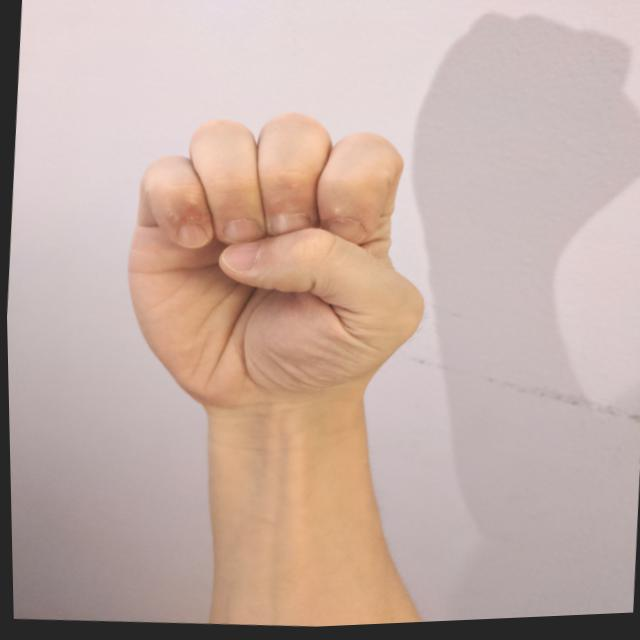E: (107, 94, 444, 434)
